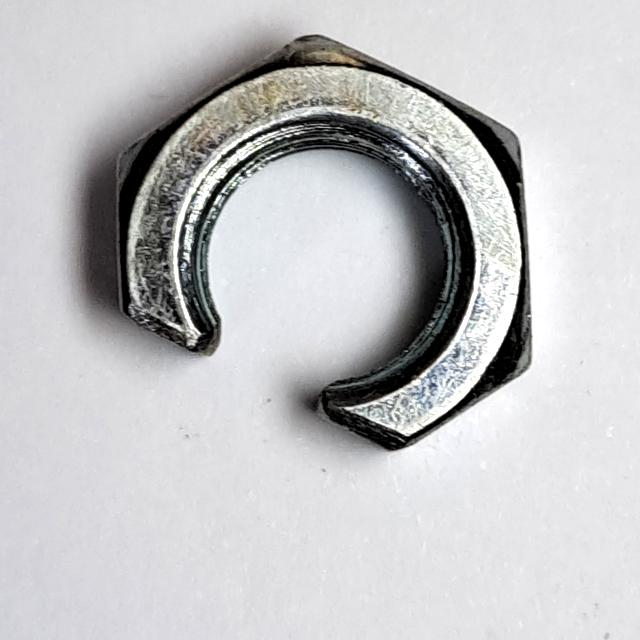Fracture: (100, 14, 564, 469)
